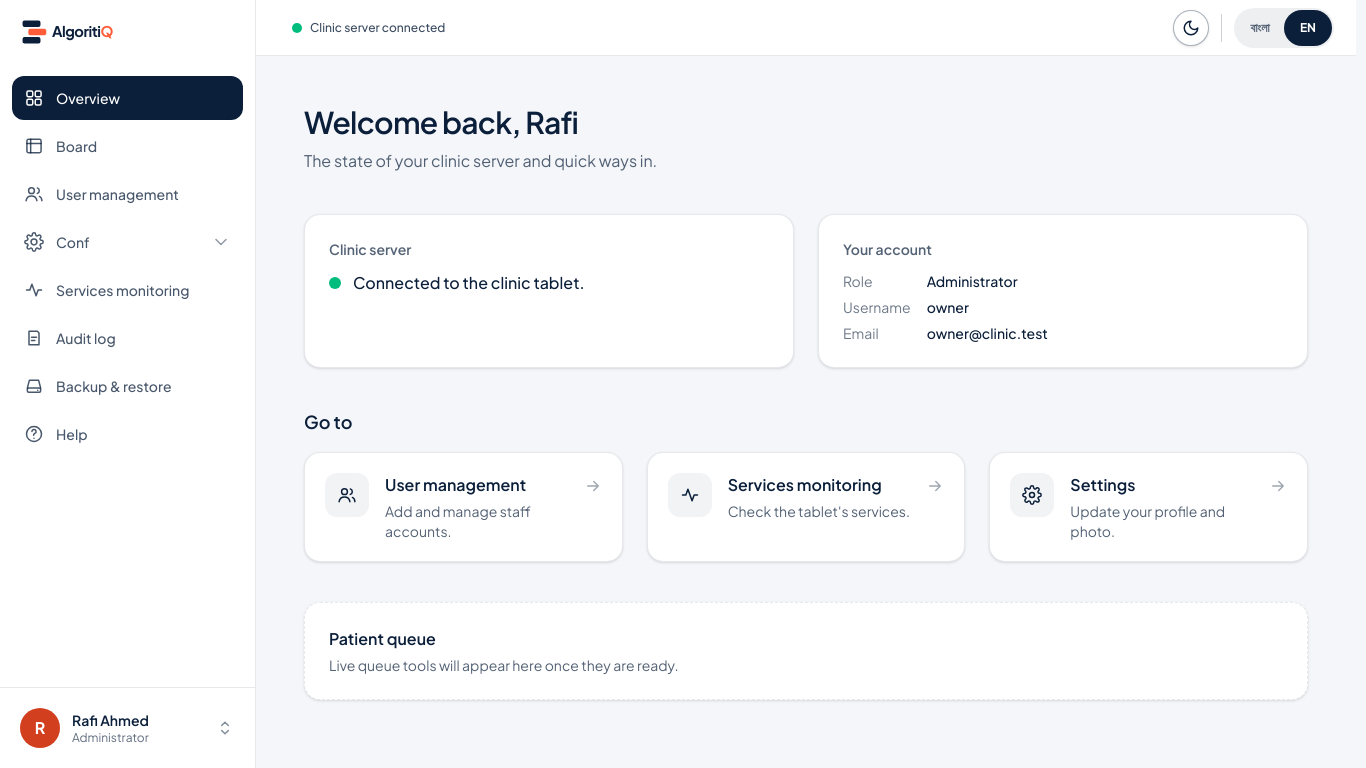
Test: dashboard shell › the user at the bottom of the sidebar › should go to Settings from the menu
Click the button with aria-label "Account menu": {"x": 128, "y": 728} [12,700,243,756]
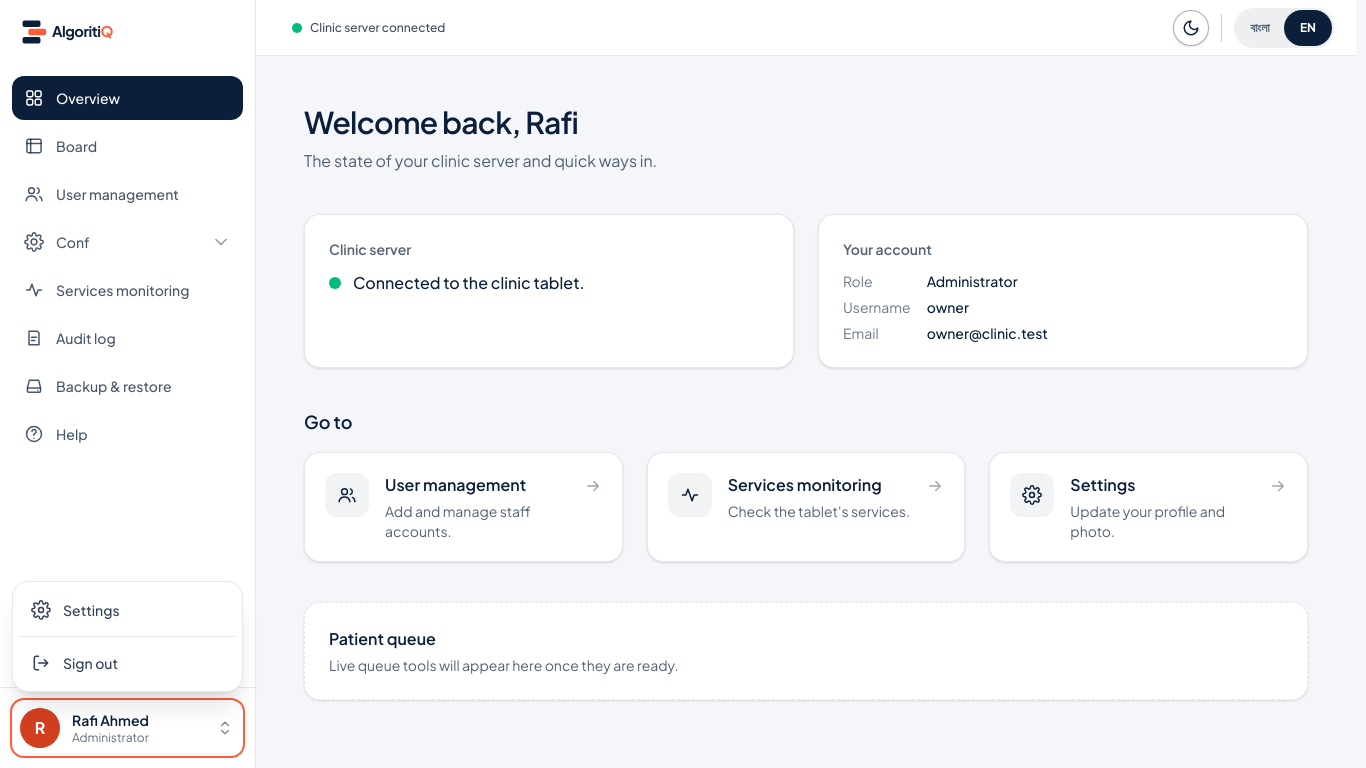
Click the link "Settings": {"x": 75, "y": 610} [31,600,120,620]
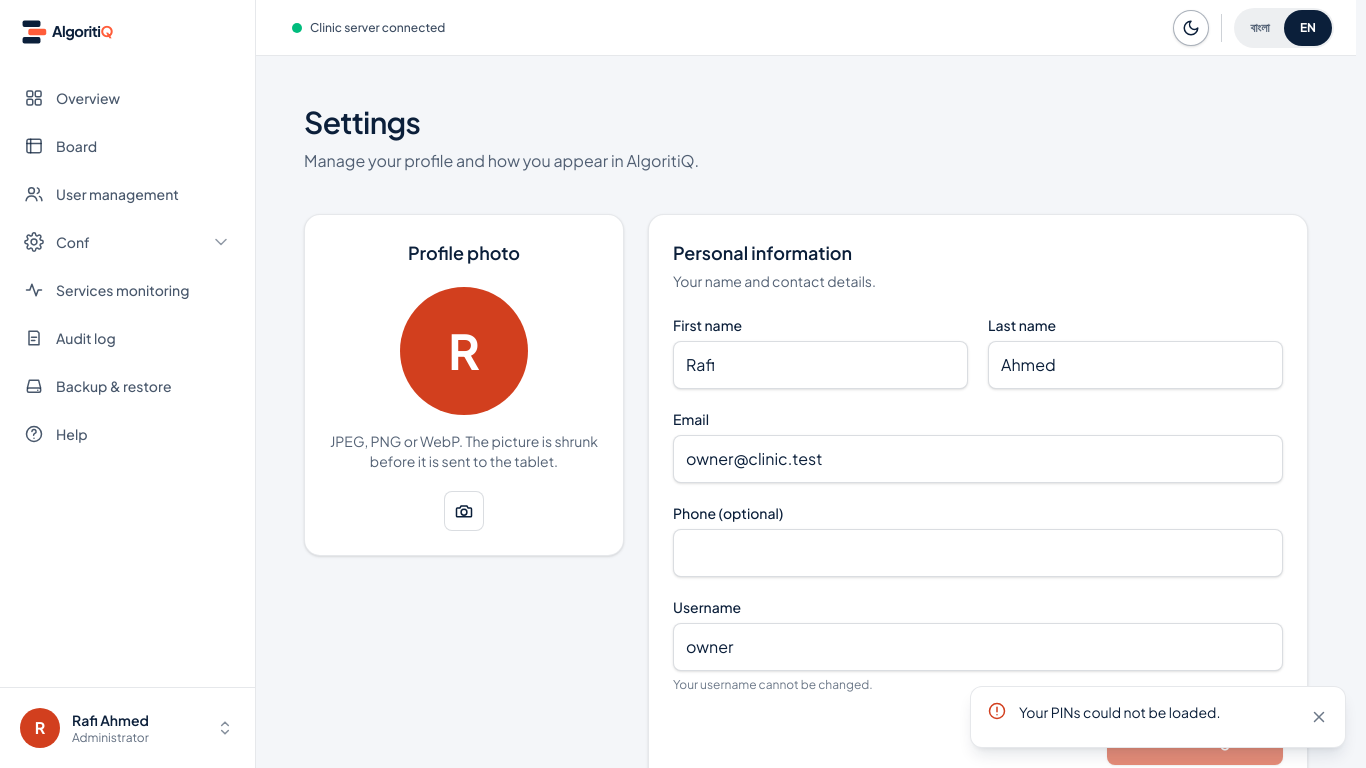
Expected: the heading "Settings" is shown, [304,103,420,141]
